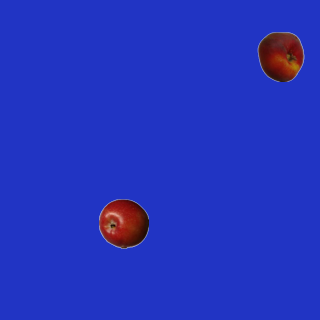Apple Braeburn: (98, 198, 148, 248)
Nectarine Flat: (255, 31, 305, 81)
